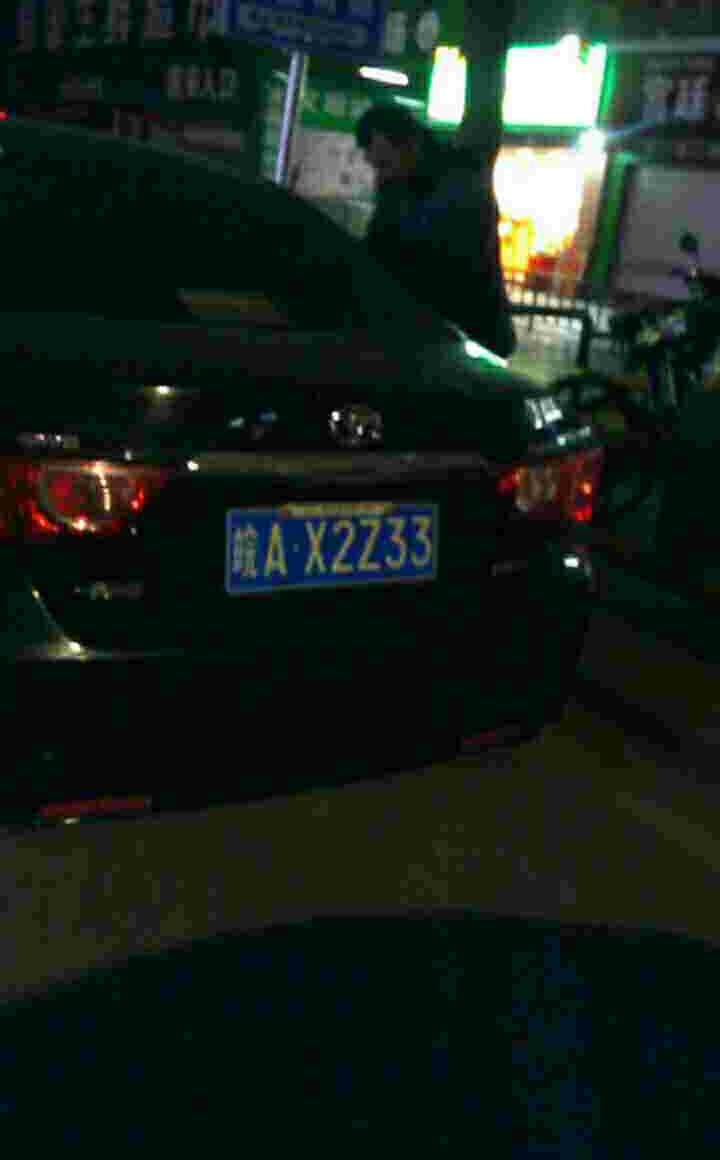plate: (233, 496, 446, 594)
